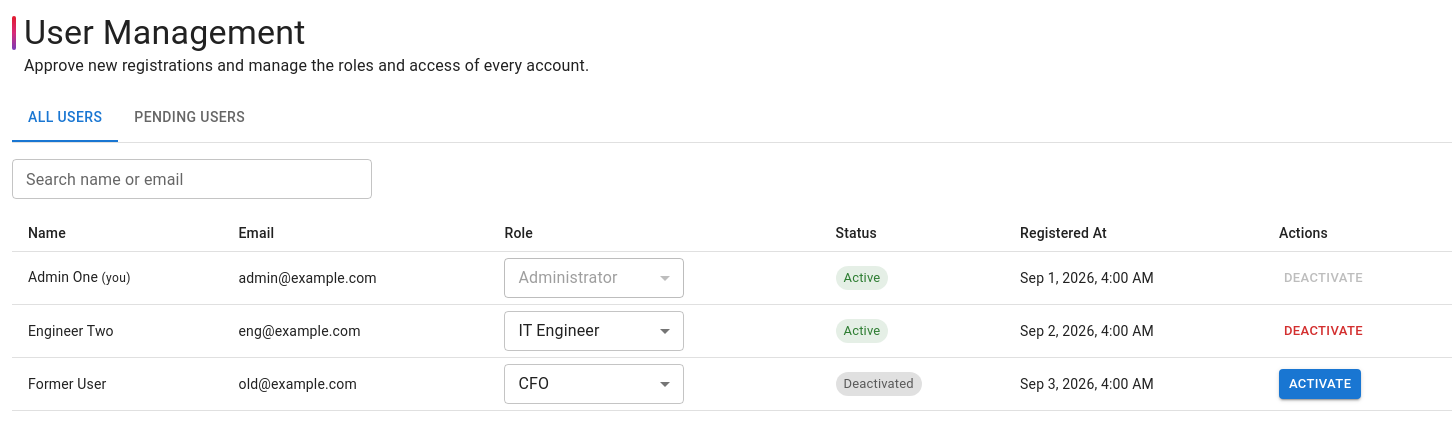
Test: UserManagementPage › shows all users first and pending registrations on the second tab
The width and height of the screenshot is (1452, 428).
Expected: the heading "User Management" is shown, 24,12 -> 306,52
Expected: the text "Engineer Two" is shown, 12,305 -> 222,358
Click the tab "Pending Users". click: (190, 118)
box: 118,94 -> 261,142
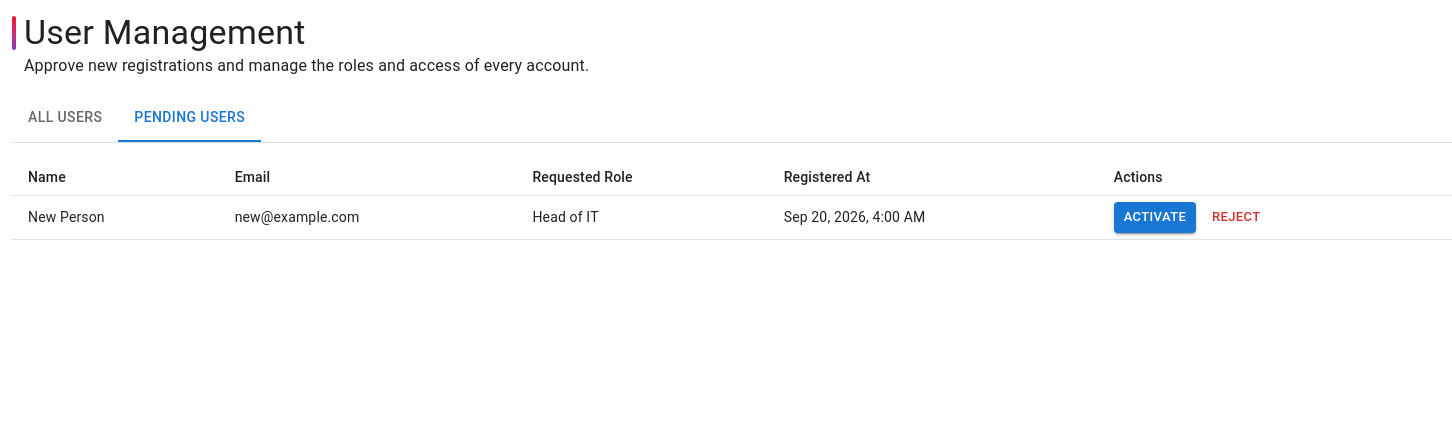
Now the text "New Person" is shown, box 12,196 -> 219,240
Now the text "Engineer Two" is gone
